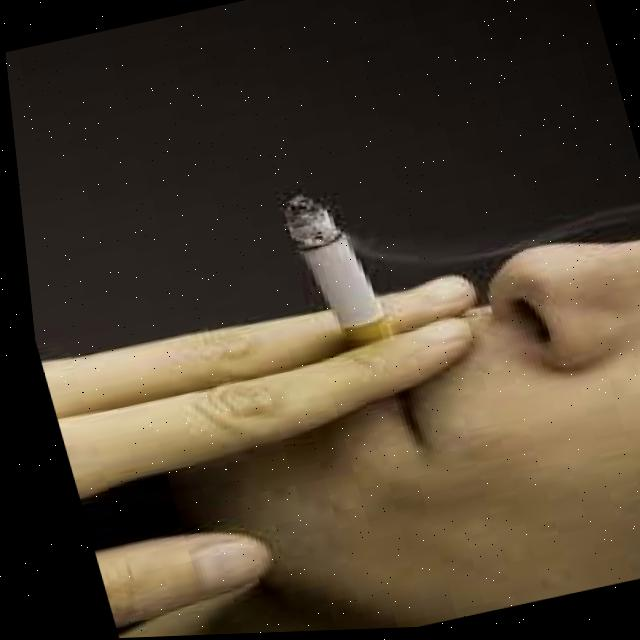cigarette: (278, 197, 389, 345)
